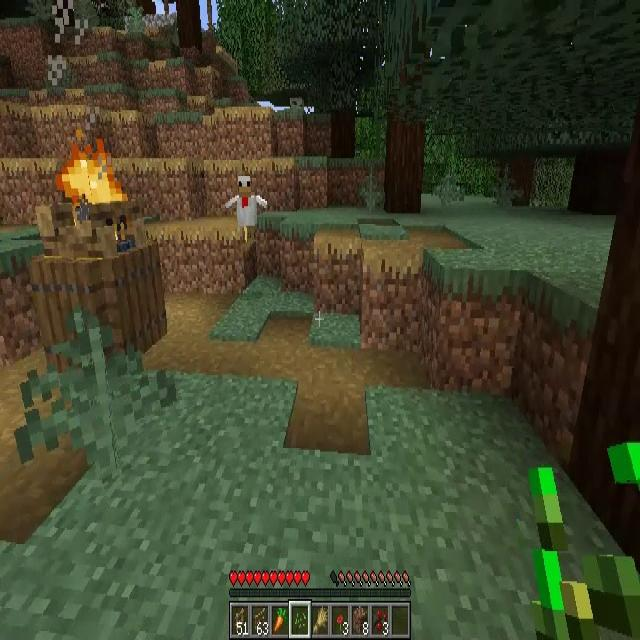duck: (227, 176, 267, 240)
